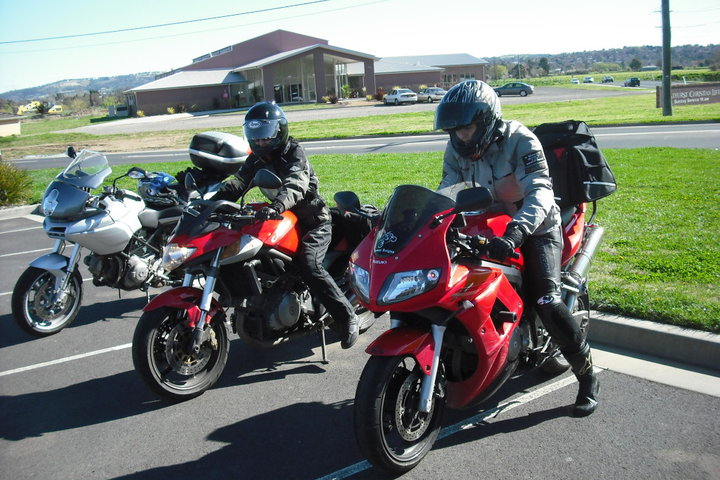with_helmet: (434, 79, 504, 154), (238, 103, 296, 154)
